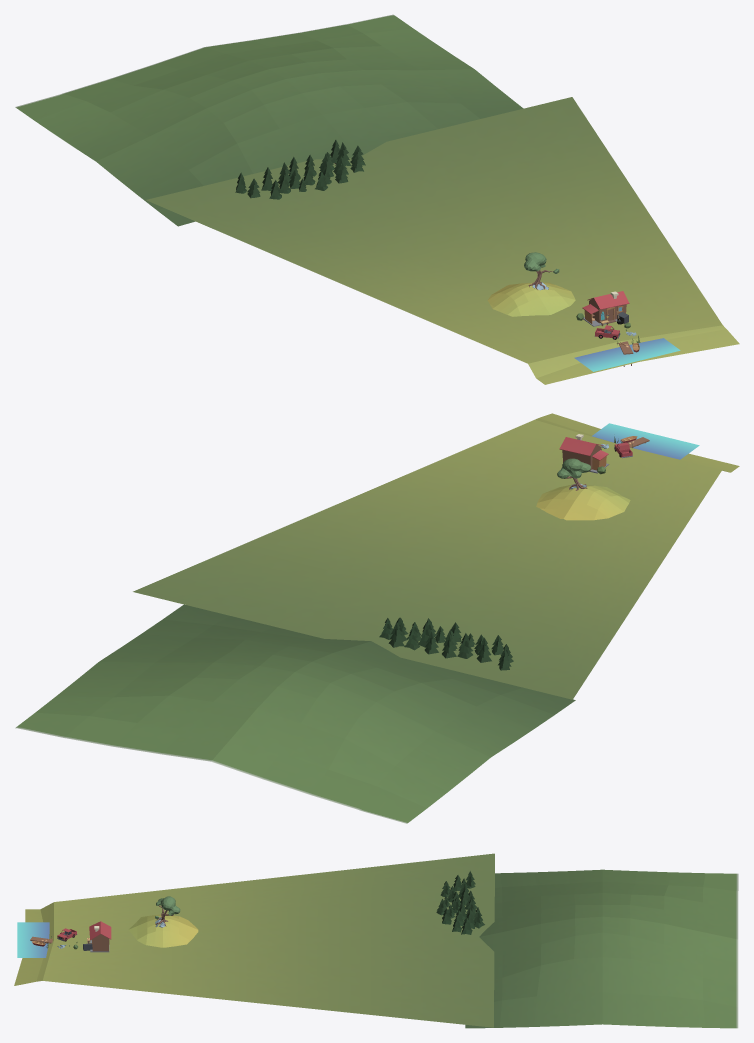
Rendered from rockla.fbx.
3 renders of one model, top to bottom at view 1: azimuth 30°, elevation 25°; view 2: azimuth 150°, elevation 25°; view 3: azimuth 270°, elevation 25°, orthographic. The views are drawn at different scales.
Parts seen in each view (by area): view 1: Earth.001, Hill2, Forest.005, hill1, Plane.006, Homeriver; view 2: Earth.001, Hill2, Forest.005, hill1, Plane.006, Homeriver; view 3: Earth.001, Hill2, Forest.005, hill1, Plane.006, Homeriver, Oak.
Boxes of the visible parts, x1,y1,x2,y2 form: Earth.001: [146, 97, 739, 384]; Hill2: [15, 14, 523, 226]; Forest.005: [235, 140, 365, 199]; hill1: [487, 282, 575, 316]; Plane.006: [574, 338, 680, 371]; Homeriver: [582, 291, 629, 326]; Earth.001: [133, 413, 739, 699]; Hill2: [15, 604, 575, 823]; Forest.005: [379, 617, 513, 670]; hill1: [536, 484, 630, 520]; Plane.006: [592, 423, 699, 459]; Homeriver: [559, 434, 609, 473]; Earth.001: [14, 853, 494, 1027]; Hill2: [465, 869, 738, 1028]; Forest.005: [436, 871, 484, 934]; hill1: [128, 914, 198, 947]; Plane.006: [17, 922, 49, 957]; Homeriver: [89, 921, 111, 952]; Oak: [155, 896, 180, 926].
Size of the model in its own units: 47.44 by 6.28 by 83.63.
